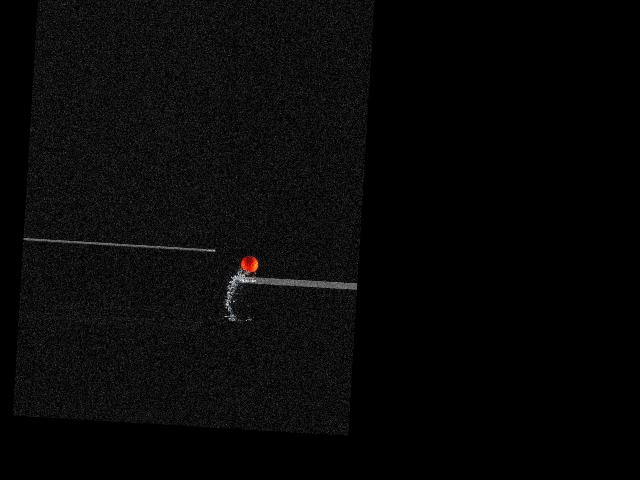tomato: (240, 255, 259, 272)
